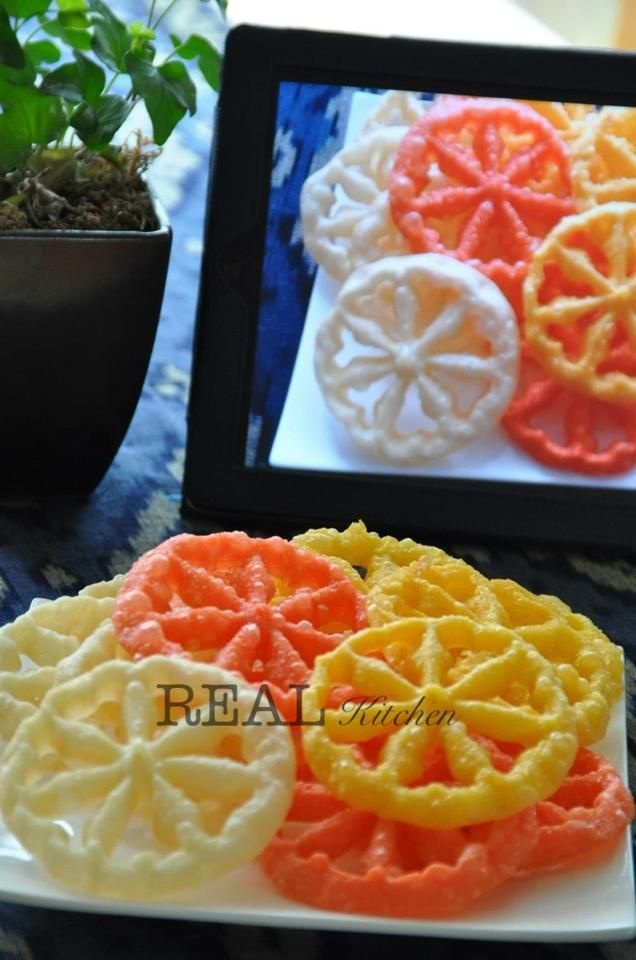kembang_goyang: (311, 569, 577, 832)
